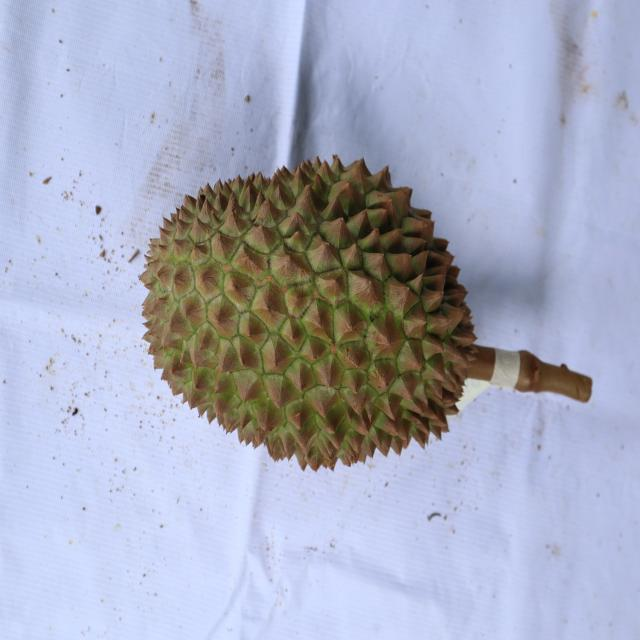mature: (140, 148, 482, 475)
